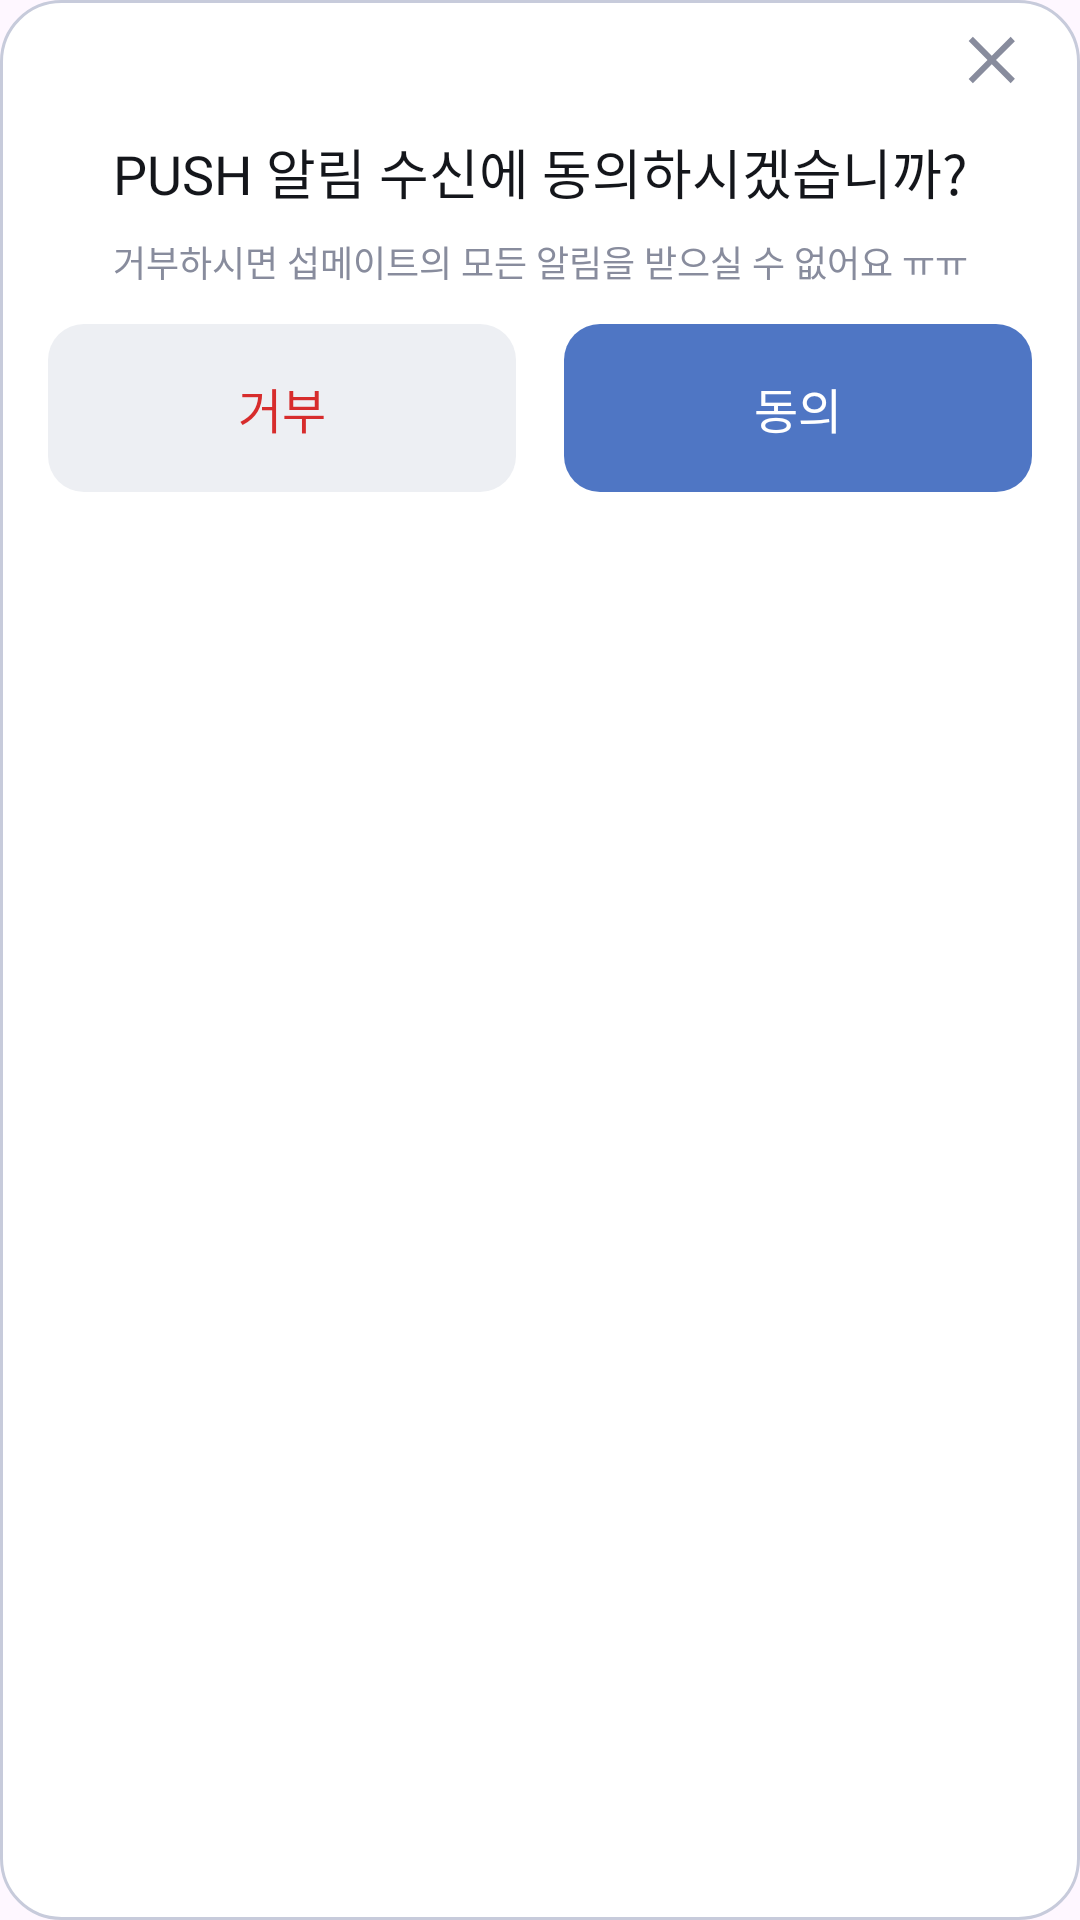

Point at icon controls on the screen. Image size 1080×1920, points as (x=x, y=y).
닫기: (x=992, y=60)
